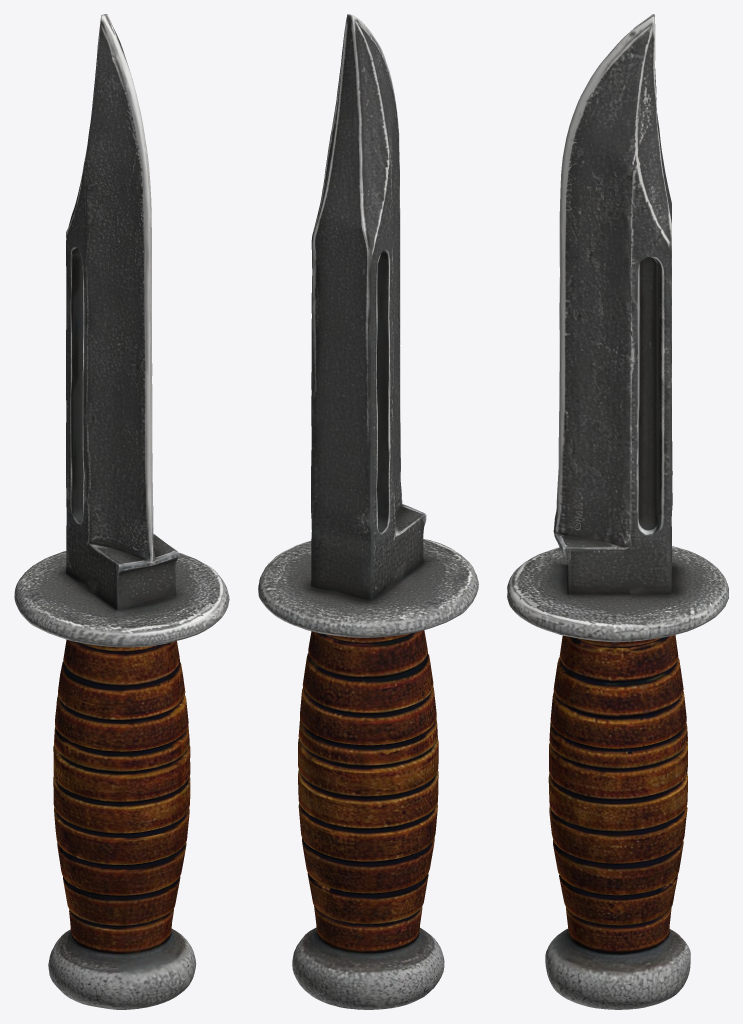
Rendered from combat_knife.0ac2a5cc05.glb.
3 renders of one model, left to right at view 1: azimuth 30°, elevation 25°; view 2: azimuth 150°, elevation 25°; view 3: azimuth 270°, elevation 25°, orthographic. The views are drawn at different scales.
Parts seen in each view (by area): view 1: combat_knife; view 2: combat_knife; view 3: combat_knife.
Part boxes in pixels (x1,y1,x2,y2): combat_knife: (14, 14, 229, 1009); combat_knife: (258, 14, 478, 1009); combat_knife: (507, 14, 728, 1009).
Bounding box in the file's own units: 0.061 × 0.3 × 0.0623.
1 material, 1 textured.
